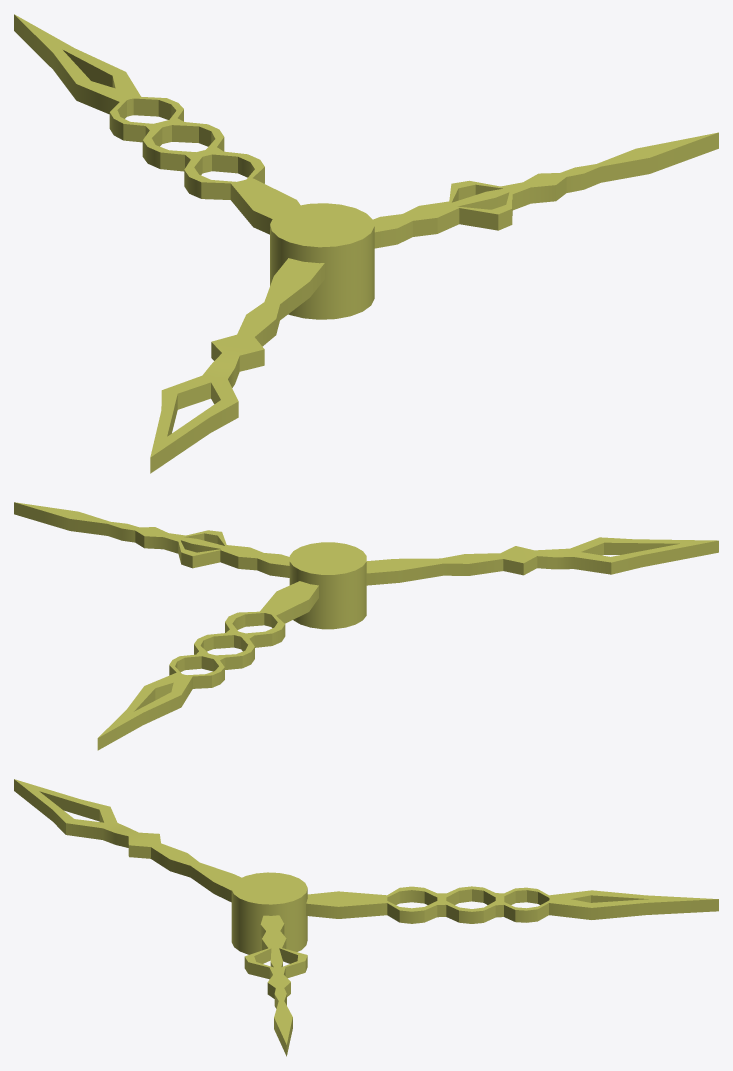
File: obj_hari_02.fbx
The picture shows the model from 3 angles, top to bottom: view 1: azimuth 30°, elevation 25°; view 2: azimuth 150°, elevation 25°; view 3: azimuth 270°, elevation 25°; orthographic projection. The views are drawn at different scales.
Parts seen in each view (by area): view 1: hari_1, hari_3, hari_2, ziku_3; view 2: hari_1, hari_2, hari_3, ziku_3; view 3: hari_1, hari_2, ziku_3, hari_3.
Boxes of the visible parts, x1,y1,x2,y2 form: hari_1: (14,14,300,234); hari_3: (373,132,718,248); hari_2: (150,258,324,473); ziku_3: (270,203,374,319); hari_1: (97,581,318,750); hari_2: (366,537,718,585); hari_3: (14,502,289,577); ziku_3: (289,542,366,629); hari_1: (306,886,718,923); hari_2: (14,779,241,902); ziku_3: (231,872,307,954); hari_3: (244,915,307,1056).
Size of the model in its own units: 6.36 by 0.5835 by 7.05.
